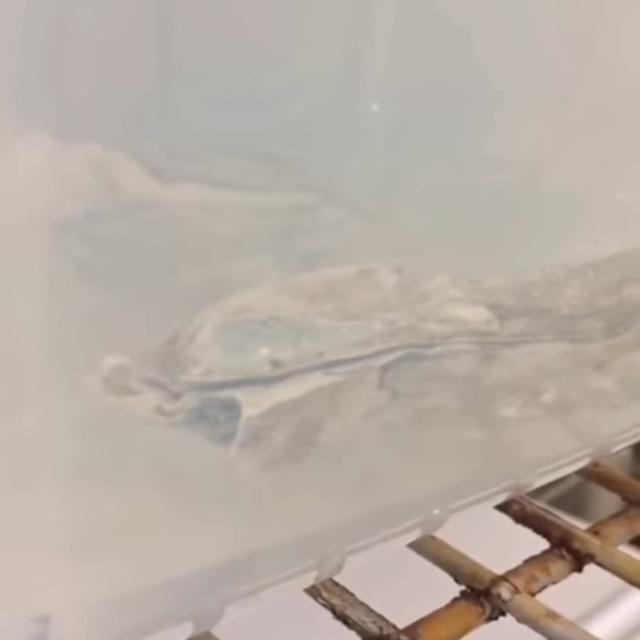Oyster-Closed: (92, 244, 640, 468)
Oyster-Indeterminate: (40, 121, 333, 238)
